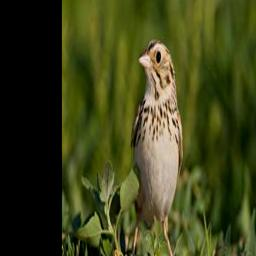Sparrow: (130, 34, 185, 256)
